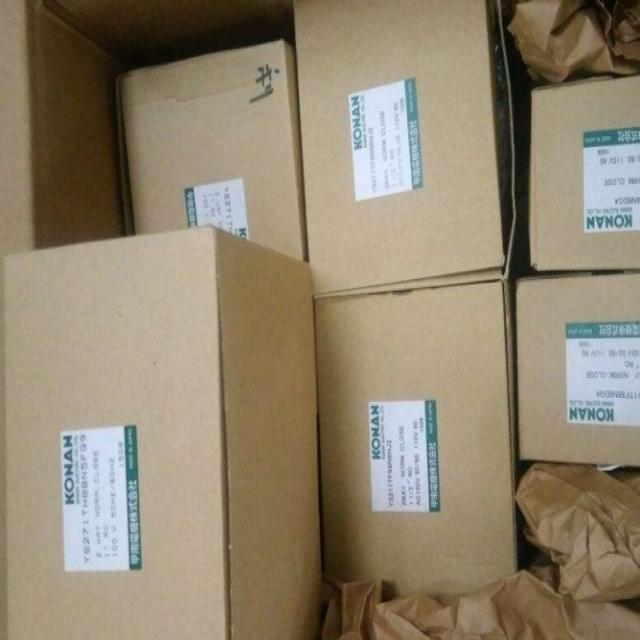box: (5, 225, 324, 640), (293, 1, 517, 300), (313, 280, 517, 600), (115, 40, 309, 260), (516, 272, 640, 465), (530, 74, 640, 271)
